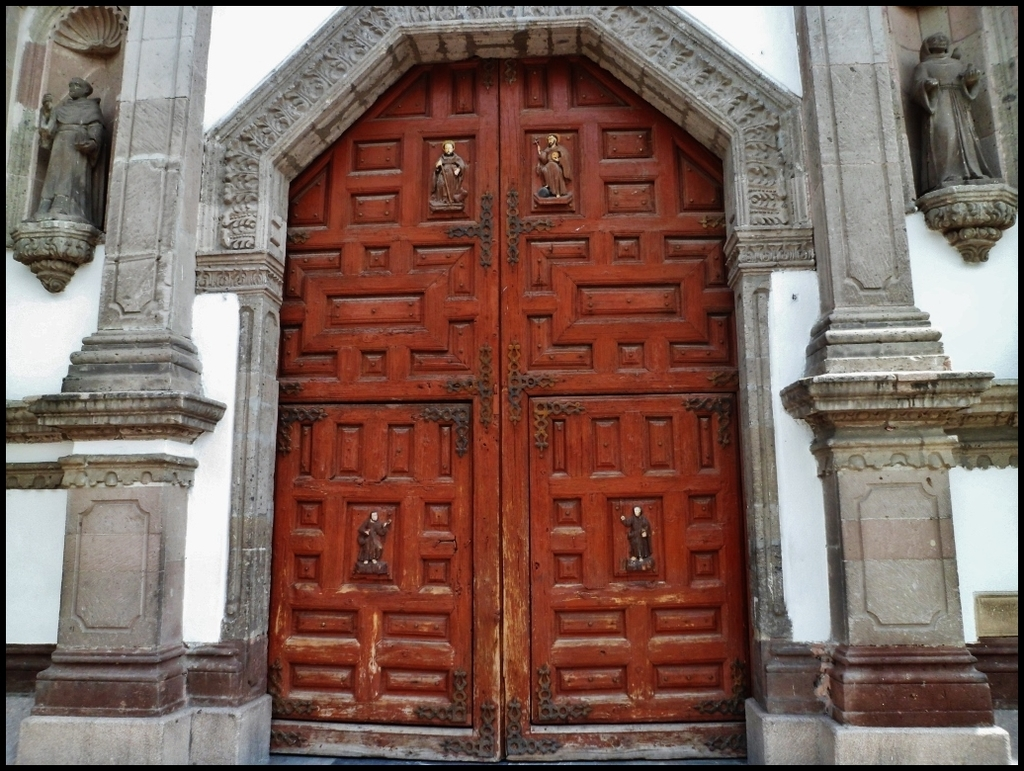door: (498, 165, 750, 755), (302, 165, 494, 746)
